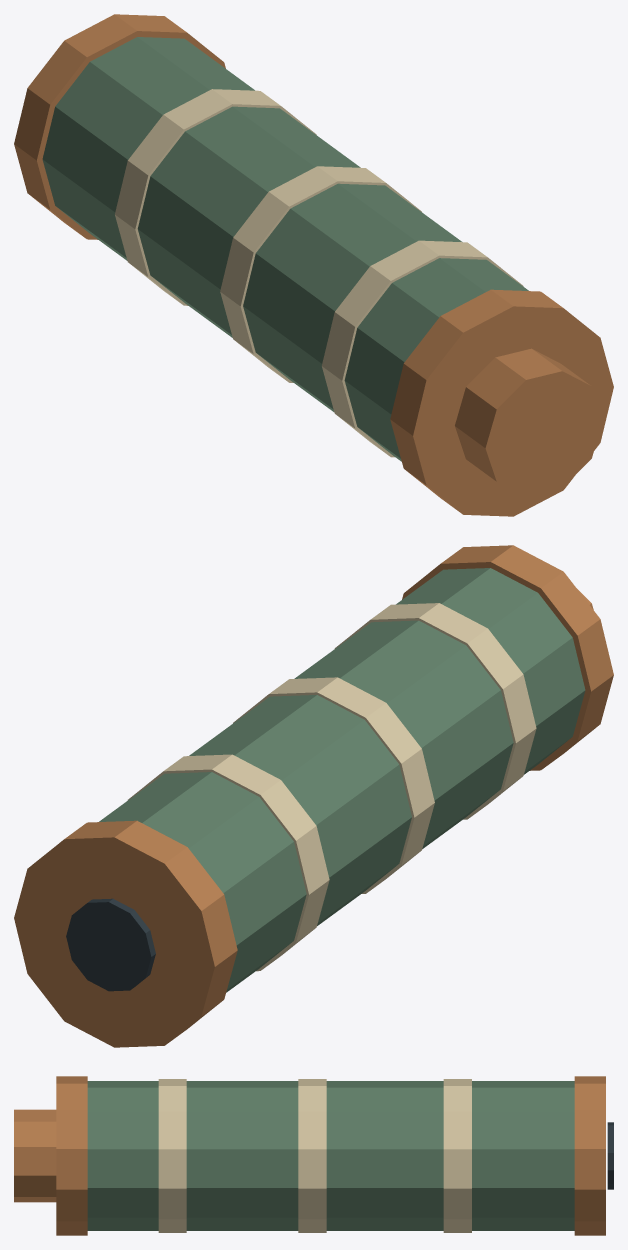
The model's file is AEW_Suppressor_ReedWhisper.fbx.
3 renders of one model, top to bottom at view 1: azimuth 30°, elevation 25°; view 2: azimuth 150°, elevation 25°; view 3: azimuth 270°, elevation 25°, orthographic. The views are drawn at different scales.
Visible parts, largest first — view 1: AEW_Suppressor_ReedWhisper; view 2: AEW_Suppressor_ReedWhisper; view 3: AEW_Suppressor_ReedWhisper.
Boxes of the visible parts, bbox=[...] form: AEW_Suppressor_ReedWhisper: bbox=[14, 14, 613, 516]; AEW_Suppressor_ReedWhisper: bbox=[14, 545, 613, 1047]; AEW_Suppressor_ReedWhisper: bbox=[14, 1076, 613, 1235].
Bounding box in the file's own units: 0.1018 × 0.1018 × 0.382.
